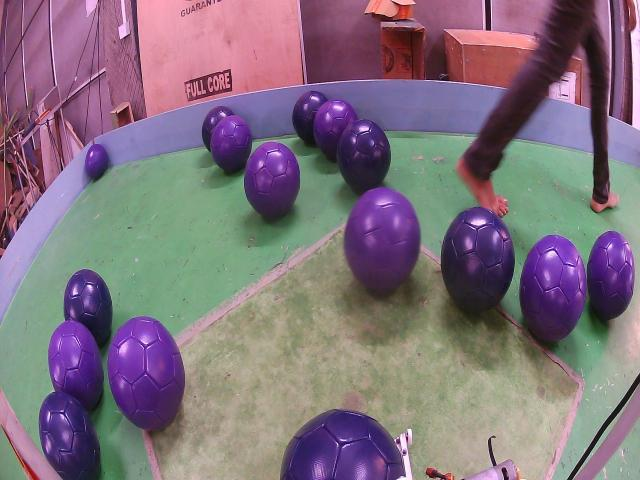jambhalya: (108, 317, 185, 430), (344, 187, 420, 292), (520, 235, 586, 342), (48, 320, 104, 410), (586, 230, 635, 320), (244, 142, 300, 218), (314, 100, 358, 160), (210, 115, 252, 172), (85, 143, 108, 179)
kaalyya: (280, 410, 405, 480), (441, 207, 515, 312), (39, 392, 101, 480), (336, 120, 391, 193), (64, 268, 112, 347), (292, 92, 326, 145), (201, 105, 232, 152)
